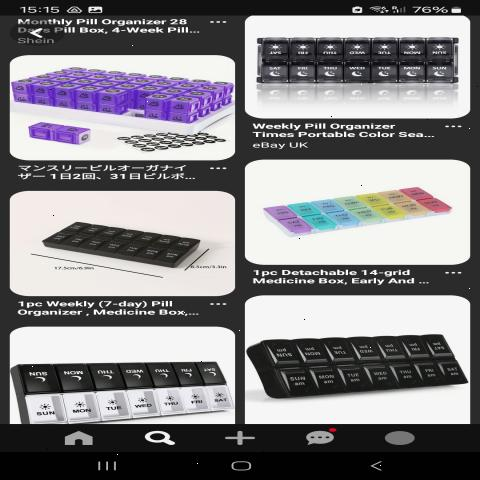PillBox: (13, 345, 237, 428), (251, 22, 472, 102), (249, 323, 461, 402), (38, 209, 215, 285)
